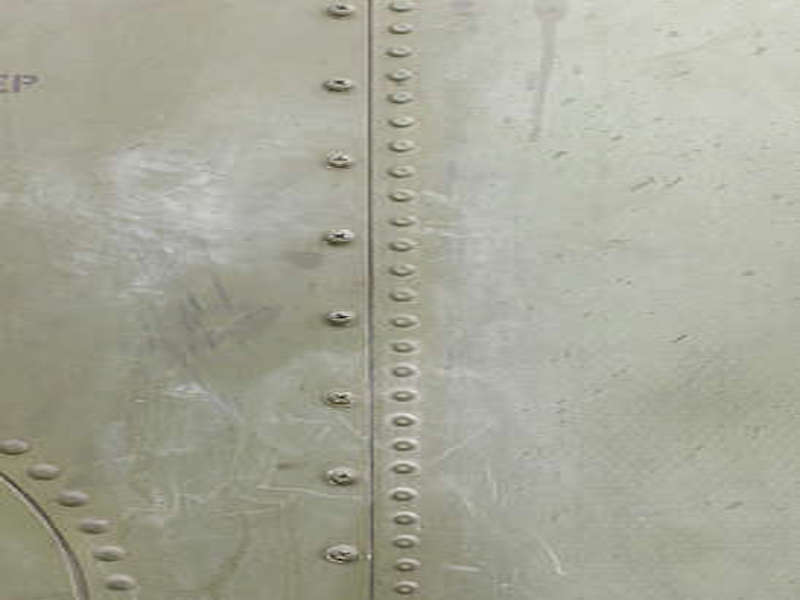rivet: (1, 433, 33, 459), (95, 543, 128, 565), (56, 488, 89, 510), (82, 515, 112, 538), (103, 573, 137, 593), (30, 462, 63, 481), (389, 484, 420, 503), (388, 88, 417, 108), (388, 185, 418, 204), (391, 384, 418, 405), (383, 43, 414, 61), (391, 533, 421, 551), (390, 433, 417, 453), (391, 312, 421, 330), (387, 135, 415, 154), (386, 163, 417, 180), (390, 412, 419, 430), (391, 510, 421, 527), (392, 556, 420, 574), (389, 336, 417, 354), (389, 285, 417, 303), (389, 261, 419, 277), (393, 578, 418, 597), (390, 460, 418, 476), (390, 237, 416, 254), (390, 213, 419, 228), (389, 114, 417, 129), (387, 68, 414, 83), (392, 363, 417, 379), (387, 21, 414, 35), (388, 2, 415, 14)
screw: (326, 543, 360, 567), (326, 466, 358, 487), (324, 227, 356, 248), (325, 309, 357, 328), (326, 151, 356, 171), (325, 388, 356, 407), (324, 77, 354, 93), (329, 2, 355, 20)
